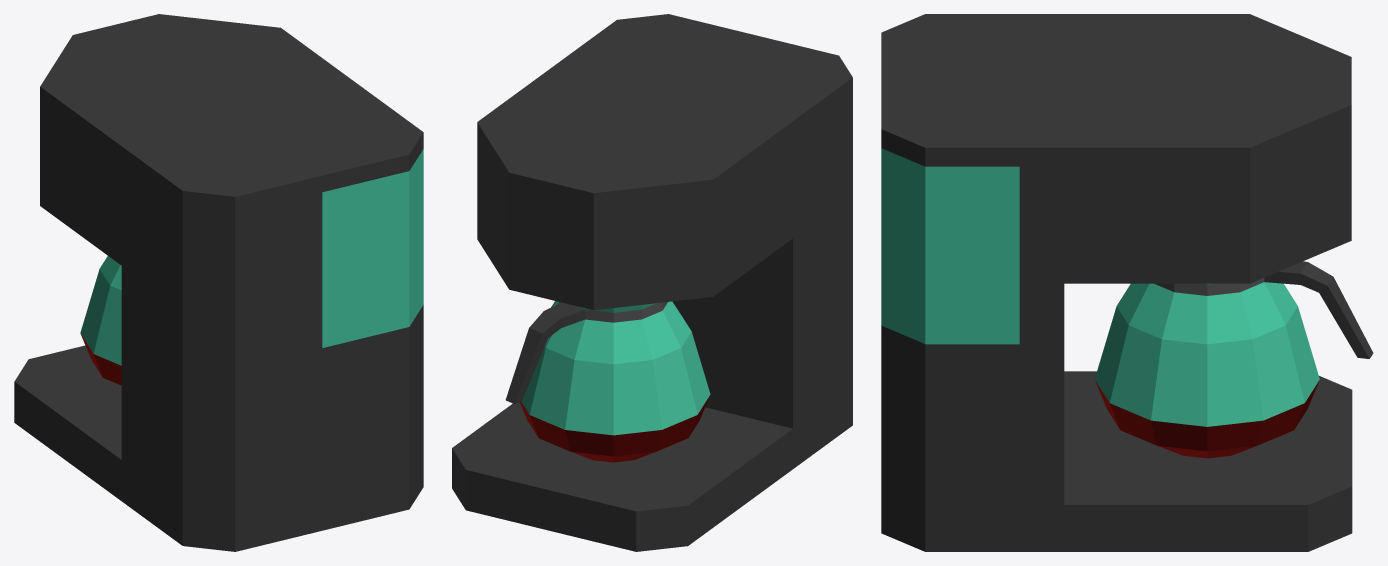
The model's file is Kaffemaskine.fbx.
3 views of the same model, side by side, from view 1: azimuth 30°, elevation 25°; view 2: azimuth 150°, elevation 25°; view 3: azimuth 270°, elevation 25° (orthographic). The views are drawn at different scales.
Visible parts, largest first — view 1: Maskine, Kande; view 2: Maskine, Kande; view 3: Maskine, Kande.
Part boxes in pixels (x1=…): Maskine: x1=14, y1=14, x2=423, y2=551; Kande: x1=80, y1=256, x2=121, y2=385; Maskine: x1=452, y1=14, x2=852, y2=551; Kande: x1=505, y1=301, x2=710, y2=462; Maskine: x1=881, y1=14, x2=1352, y2=551; Kande: x1=1094, y1=261, x2=1373, y2=458.
Size of the model in its own units: 25.28 by 35.62 by 39.3.
